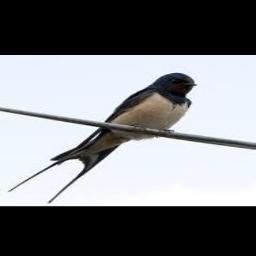Swallow: (8, 73, 197, 203)
